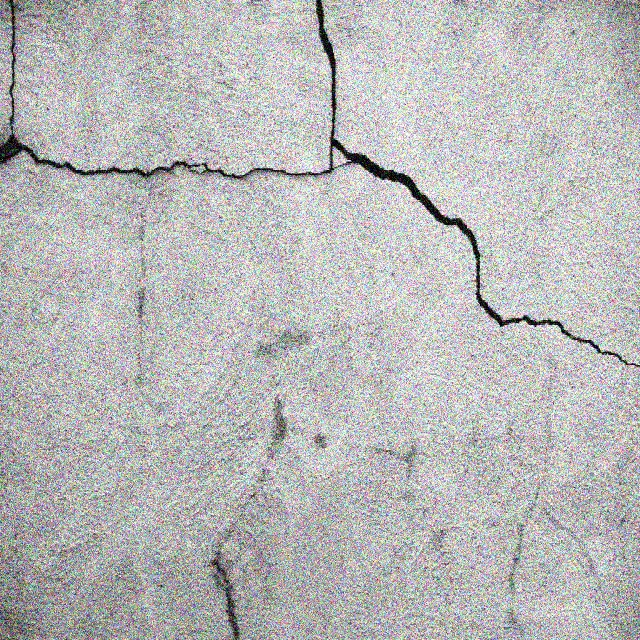SurfaceCrack: (285, 48, 639, 423), (1, 115, 338, 207)
